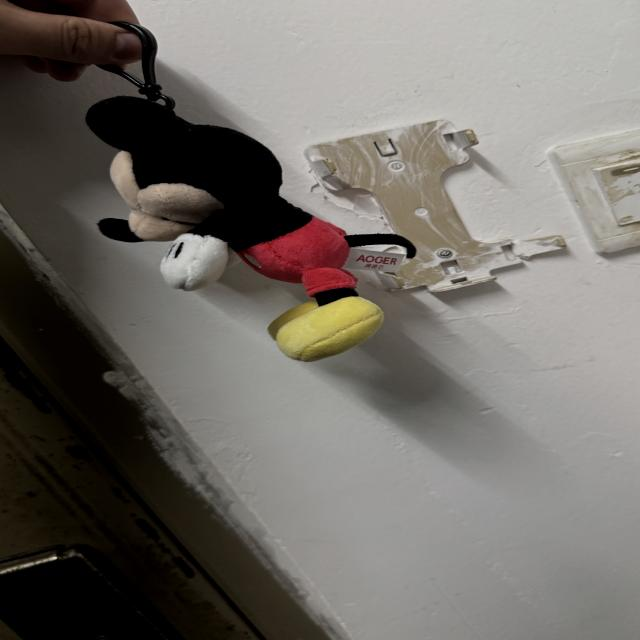mickey: (88, 97, 415, 361)
